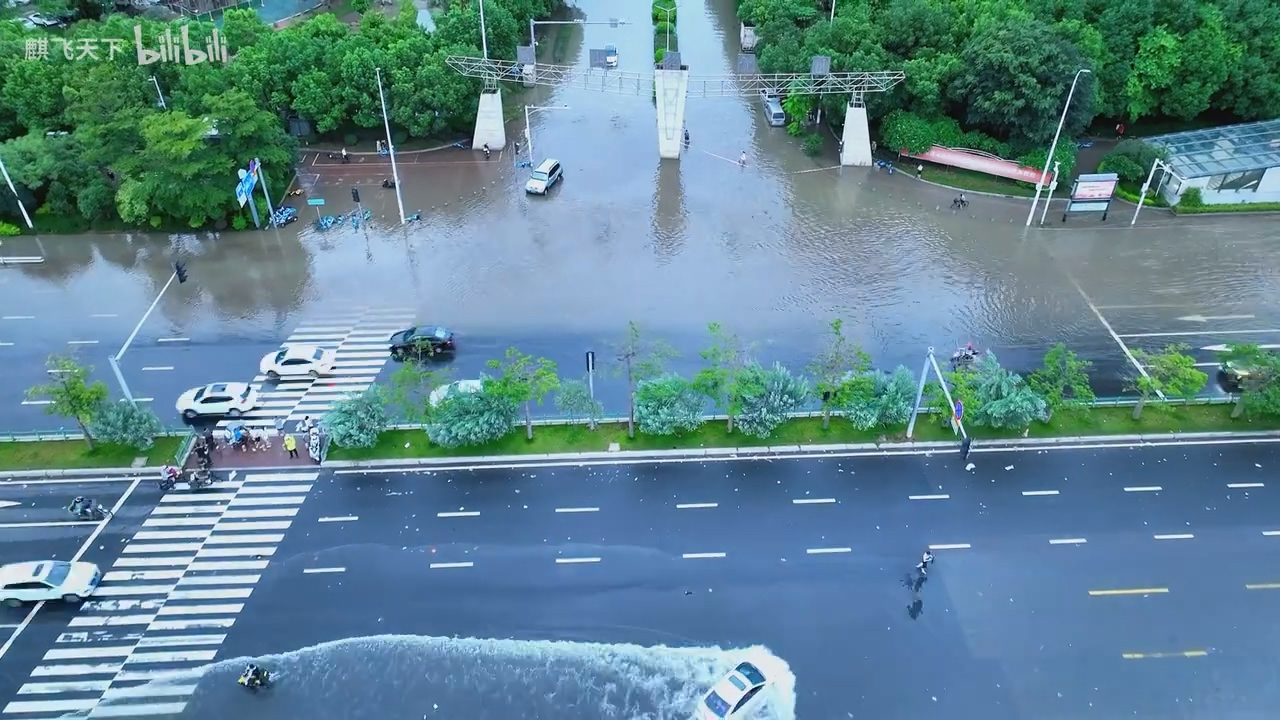puddle: (10, 204, 1268, 347)
